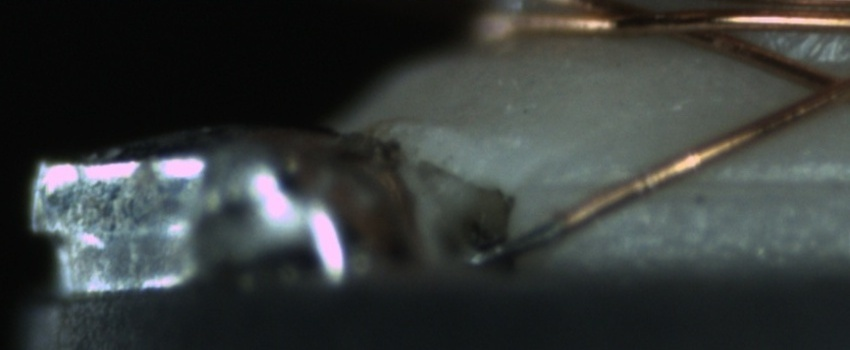CL: (795, 57, 849, 114)
DL: (547, 149, 849, 218)
TS: (466, 216, 563, 270)
TTCW: (463, 201, 600, 268)
